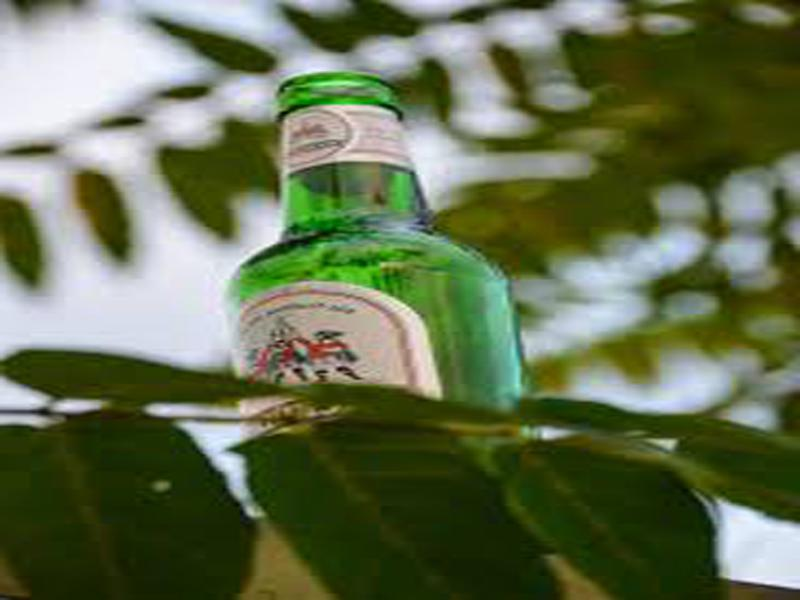Beer: (231, 72, 519, 445)
